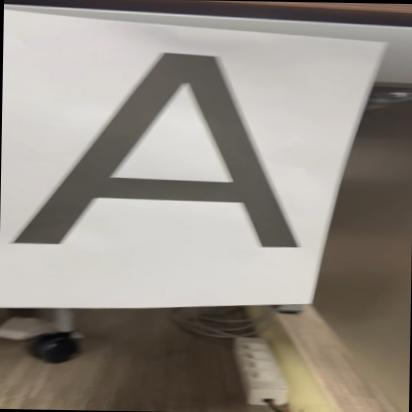seat: (12, 41, 316, 252)
